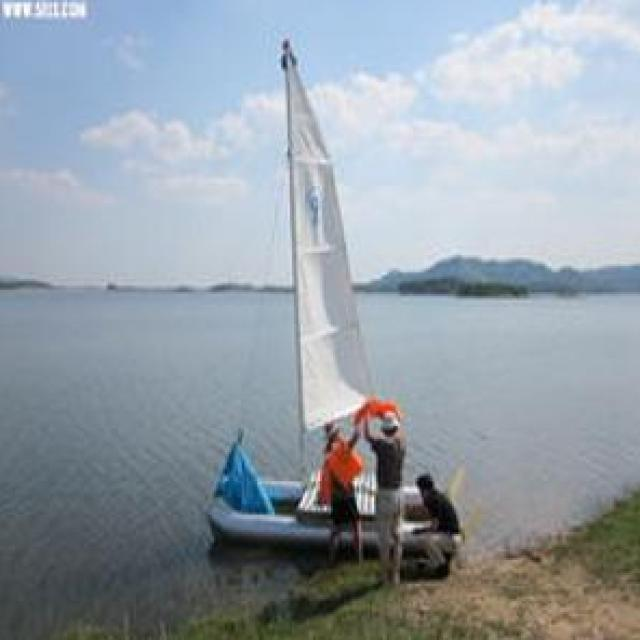sailboat: (176, 36, 464, 562)
